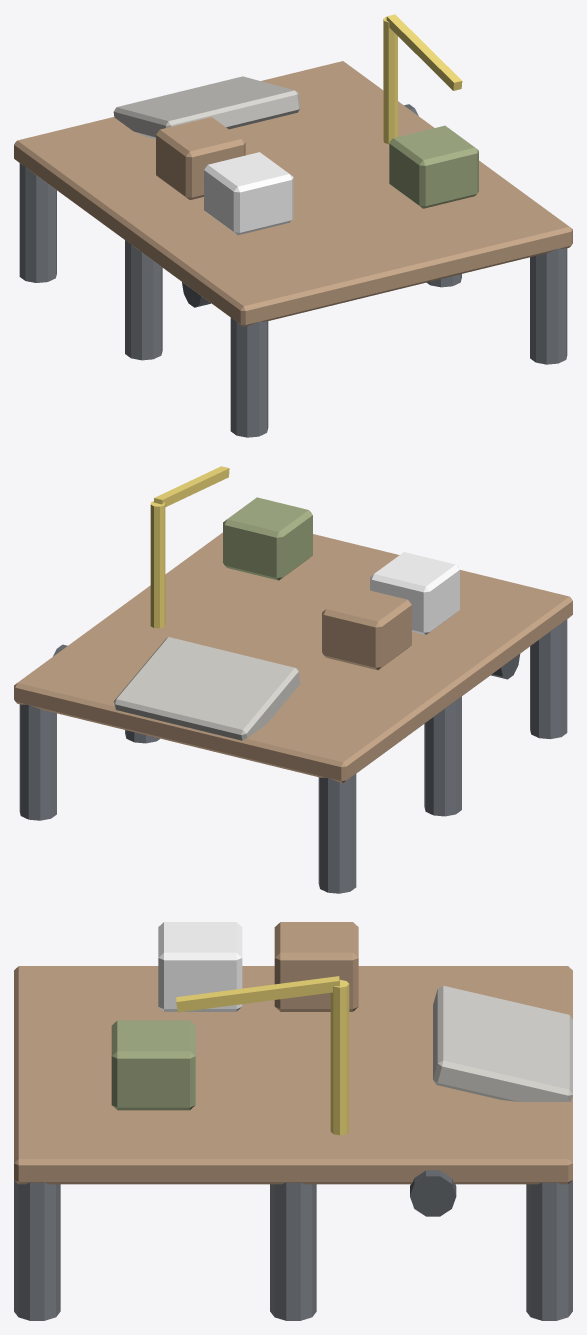
File: dock.glb
3 renders of one model, top to bottom at view 1: azimuth 30°, elevation 25°; view 2: azimuth 150°, elevation 25°; view 3: azimuth 270°, elevation 25°, orthographic. The views are drawn at different scales.
Parts seen in each view (by area): view 1: main; view 2: main; view 3: main.
Part boxes in pixels (x1,y1,x2,y2): main: [14, 14, 572, 437]; main: [14, 466, 572, 893]; main: [14, 922, 572, 1320].
Size of the model in its own units: 1.03 by 0.7424 by 1.2.
